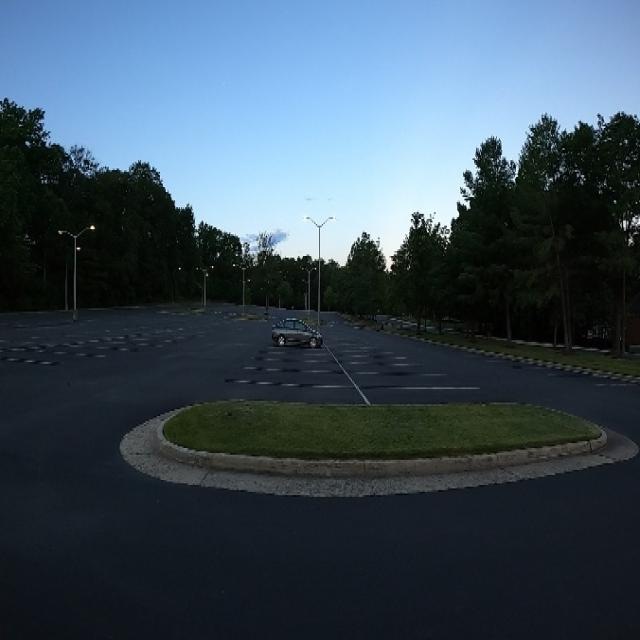cars: (269, 307, 321, 364)
